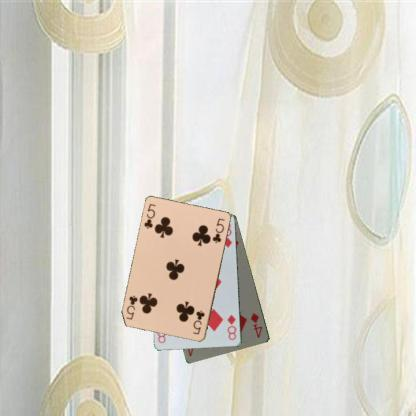4d: (248, 310, 263, 339)
5c: (190, 308, 206, 336), (142, 201, 157, 230)
8d: (225, 312, 237, 341)
